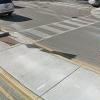Crosswalk: (10, 19, 100, 43)
